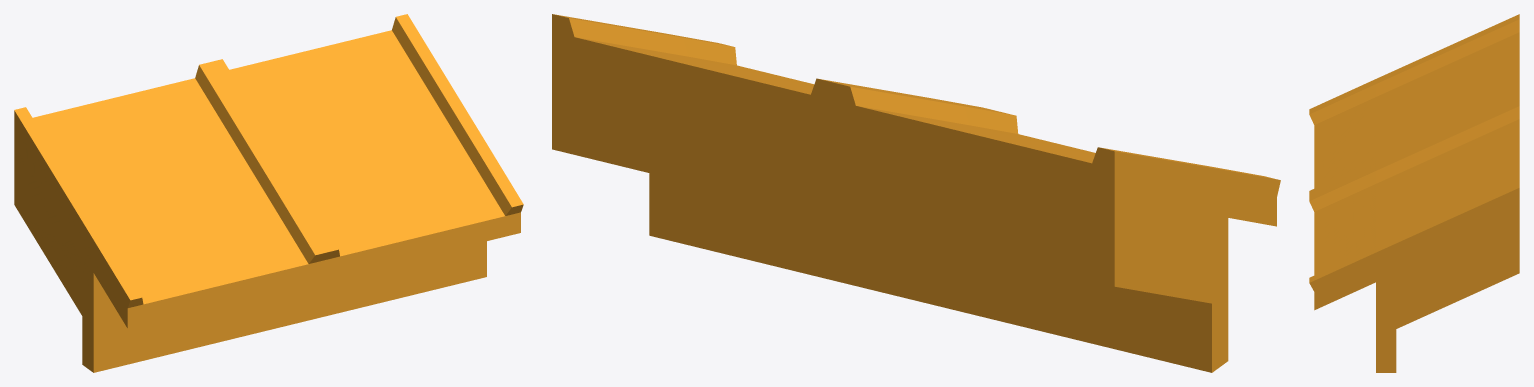
The model's file is SM_Roof_Metal_Moderate_1m_Edge.fbx.
The picture shows the model from 3 angles, left to right: view 1: azimuth 30°, elevation 25°; view 2: azimuth 150°, elevation 25°; view 3: azimuth 270°, elevation 25°; orthographic projection. The views are drawn at different scales.
Visible parts, largest first — view 1: roof-metal-moderate-1m-edge; view 2: roof-metal-moderate-1m-edge; view 3: roof-metal-moderate-1m-edge.
Boxes of the visible parts, box(x1,y1,x2,y2) form: roof-metal-moderate-1m-edge: box(14, 14, 523, 372); roof-metal-moderate-1m-edge: box(552, 14, 1280, 372); roof-metal-moderate-1m-edge: box(1309, 14, 1519, 372).
Size of the model in its own units: 1 by 0.4978 by 0.512.
